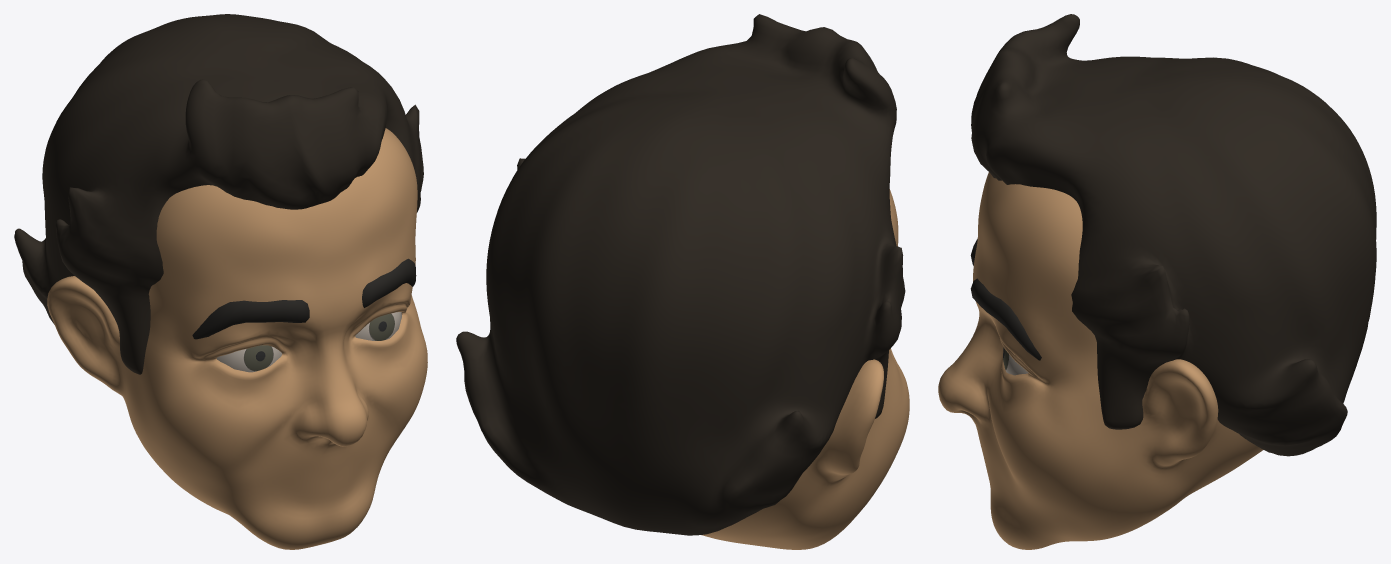
The model's file is head.fbx.
The picture shows the model from 3 angles, left to right: view 1: azimuth 30°, elevation 25°; view 2: azimuth 150°, elevation 25°; view 3: azimuth 270°, elevation 25°; orthographic projection. The views are drawn at different scales.
Parts seen in each view (by area): view 1: Head; view 2: Head; view 3: Head.
Boxes of the visible parts, <box> form: Head: <box>14,14,427,549</box>; Head: <box>456,14,909,549</box>; Head: <box>938,14,1376,549</box>.
Size of the model in its own units: 32.9 by 41.7 by 34.4.
1 material, 1 textured.
